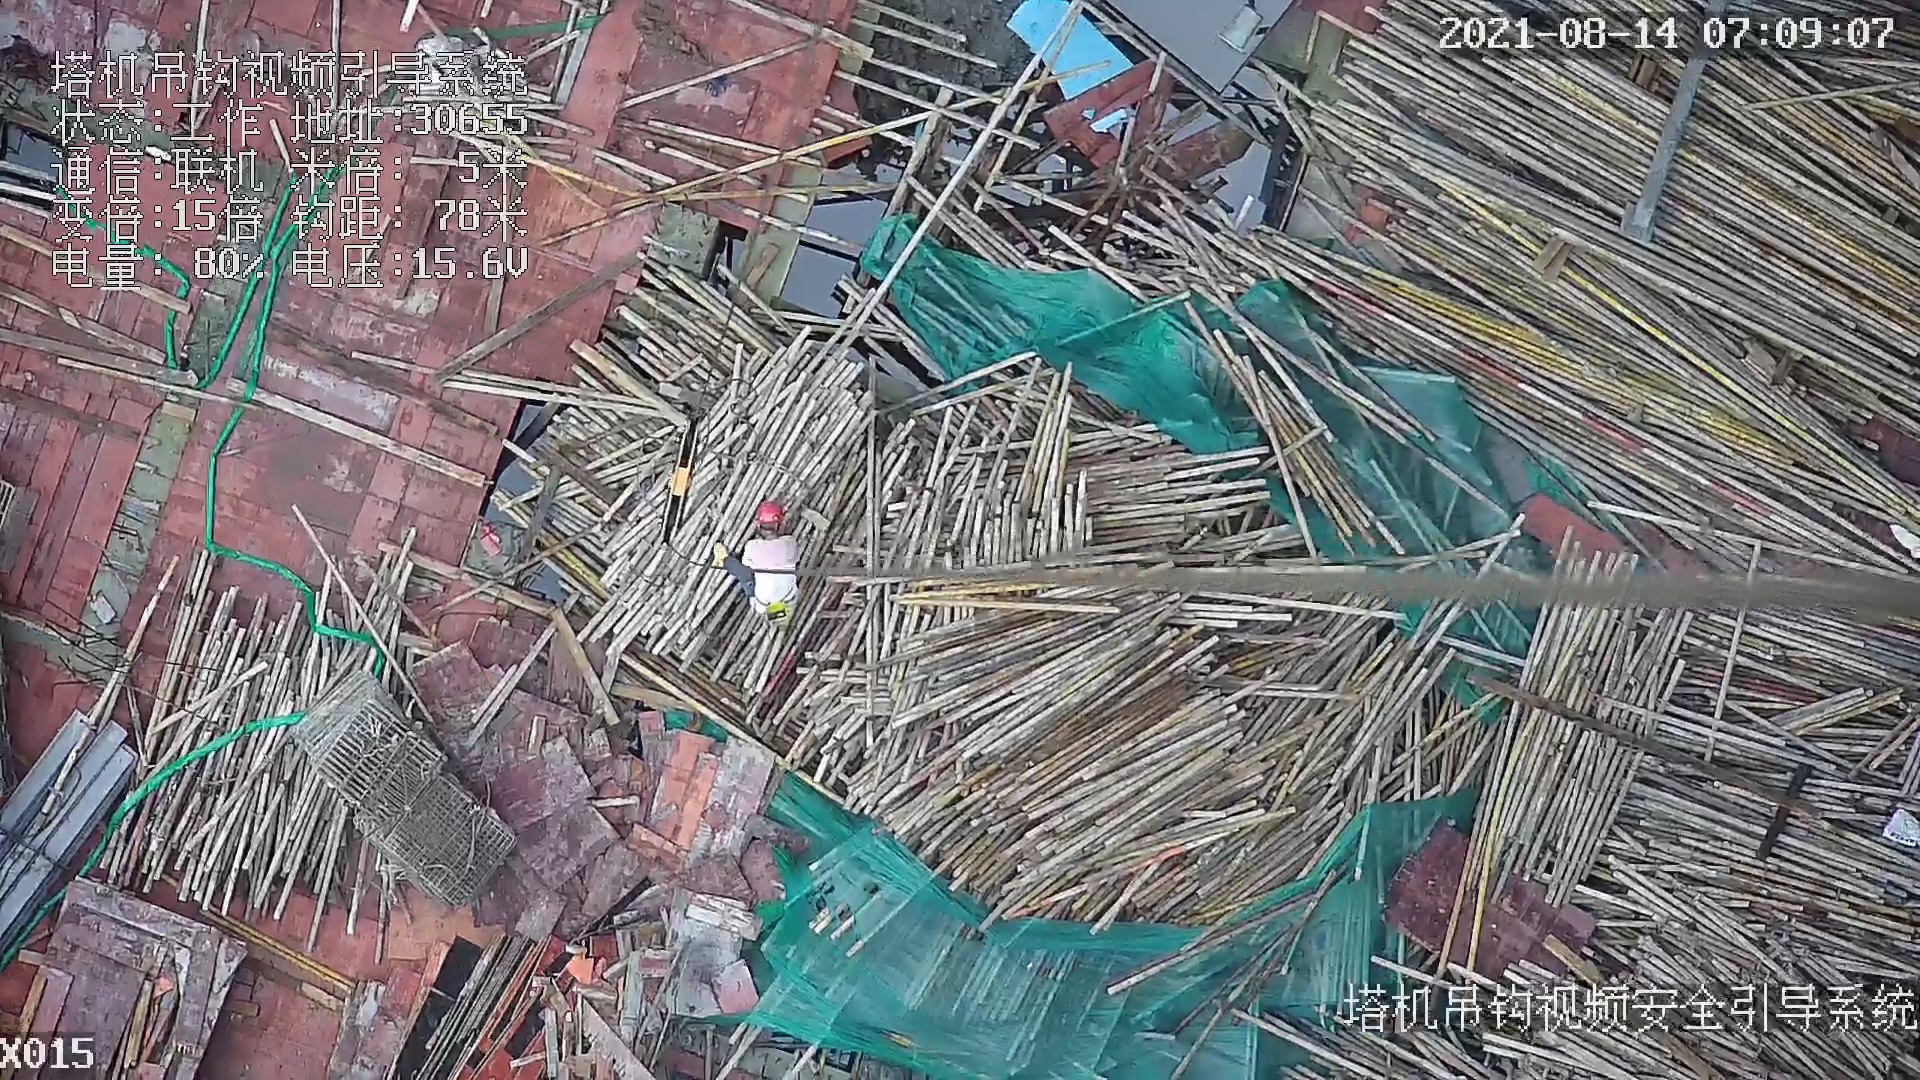helmet: (753, 499, 784, 533)
hook: (660, 415, 701, 547)
person: (717, 491, 799, 622)
